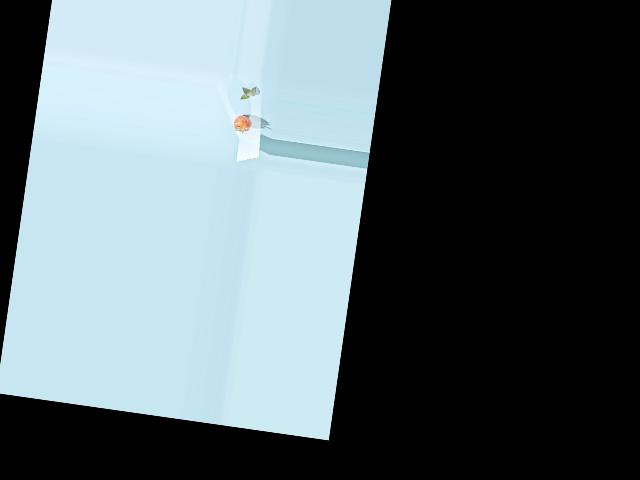tomato: (232, 114, 253, 133)
